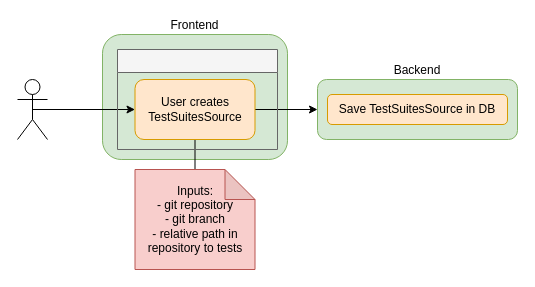
Image size: 535x287. Some labels were removed from this diagram. Here are the shapes that lost their labels. From the top down, the centre of each, then its label:
At (x=32, y=109): "User".
At (x=197, y=99): "Organization level".
